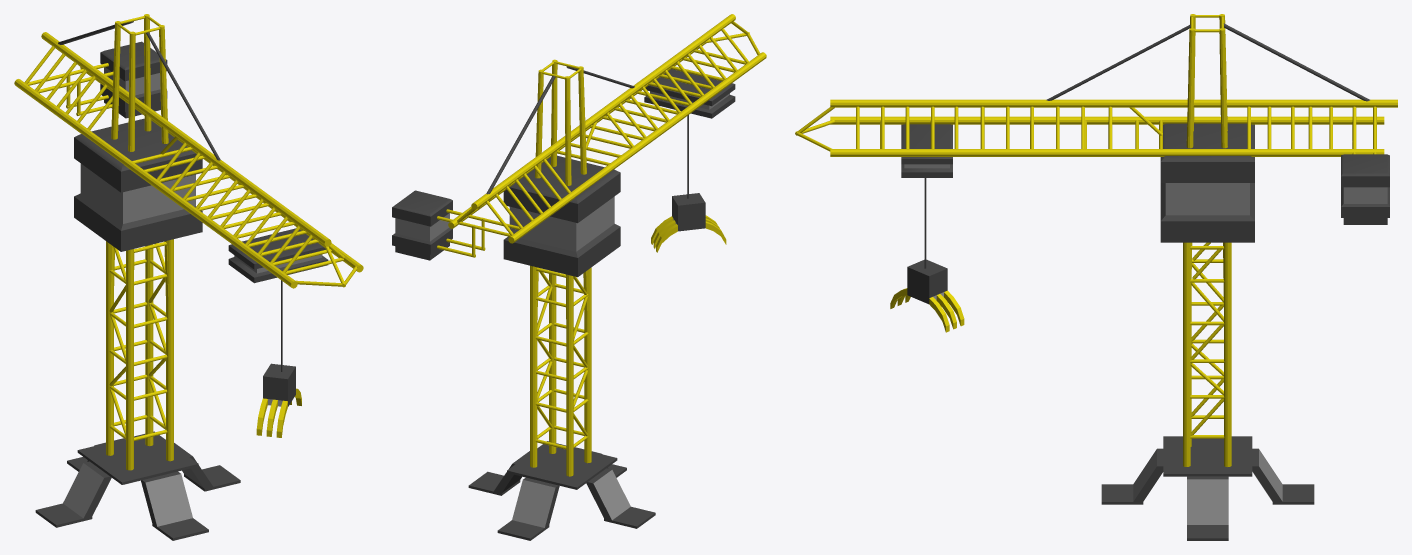
The model's file is Kran.fbx.
3 renders of one model, left to right at view 1: azimuth 30°, elevation 25°; view 2: azimuth 150°, elevation 25°; view 3: azimuth 270°, elevation 25°, orthographic. The views are drawn at different scales.
Parts seen in each view (by area): view 1: pCube10, pCylinder137, pCylinder138; view 2: pCube10, pCylinder137, pCylinder138; view 3: pCube10, pCylinder137, pCylinder138.
Boxes of the visible parts, box(x1,y1,x2,y2) form: pCube10: box(14, 14, 231, 302); pCylinder137: box(35, 239, 240, 540); pCylinder138: box(132, 129, 363, 437); pCube10: box(392, 59, 652, 322); pCylinder137: box(468, 265, 655, 540); pCylinder138: box(557, 14, 766, 252); pCube10: box(1046, 14, 1397, 298); pCylinder137: box(1101, 242, 1314, 540); pCylinder138: box(795, 99, 1162, 332).
Size of the model in its own units: 0.1075 by 0.259 by 0.2982.
